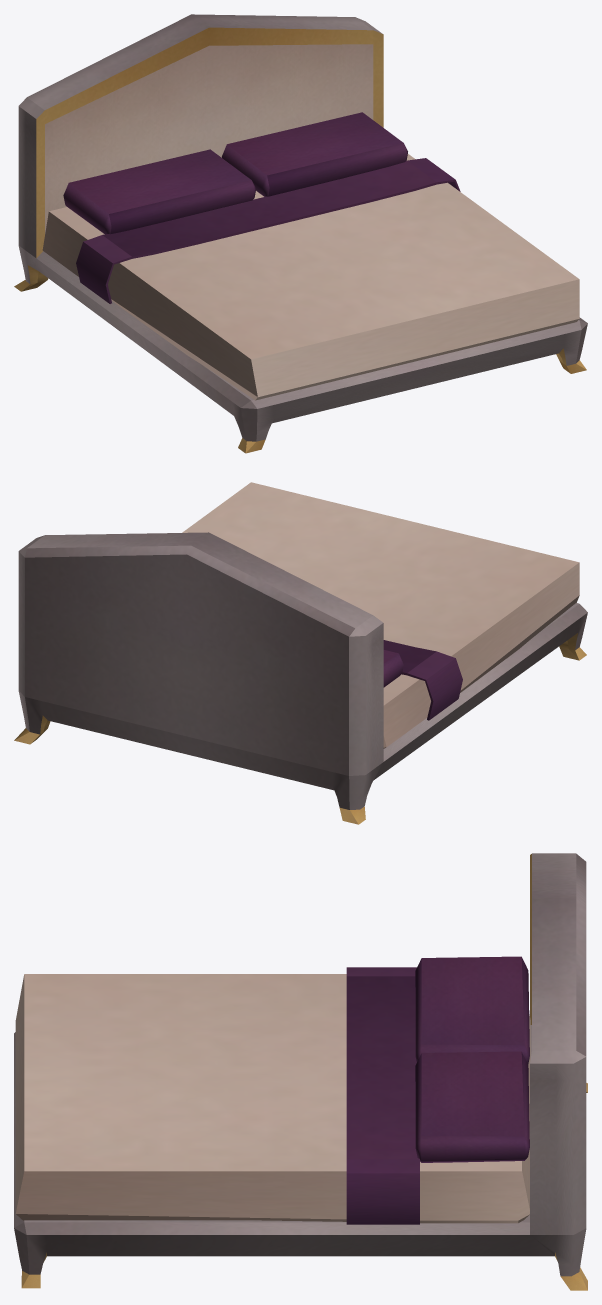
Rendered from SM_full_bed_01.fbx.
The picture shows the model from 3 angles, top to bottom: view 1: azimuth 30°, elevation 25°; view 2: azimuth 150°, elevation 25°; view 3: azimuth 270°, elevation 25°; orthographic projection. The views are drawn at different scales.
Visible parts, largest first — view 1: SM_full_bed_01; view 2: SM_full_bed_01; view 3: SM_full_bed_01.
Part boxes in pixels (bbox=[...]): SM_full_bed_01: bbox=[14, 14, 587, 453]; SM_full_bed_01: bbox=[14, 482, 587, 824]; SM_full_bed_01: bbox=[14, 853, 587, 1290].
Bounding box in the file's own units: 2.66 × 1.66 × 3.
